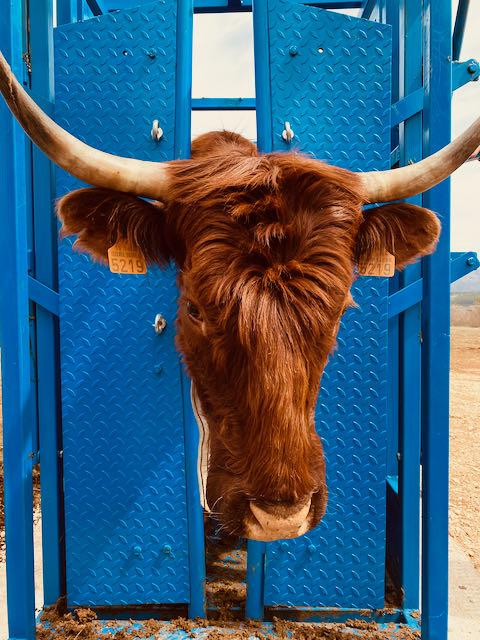muzzles: (216, 492, 340, 544)
